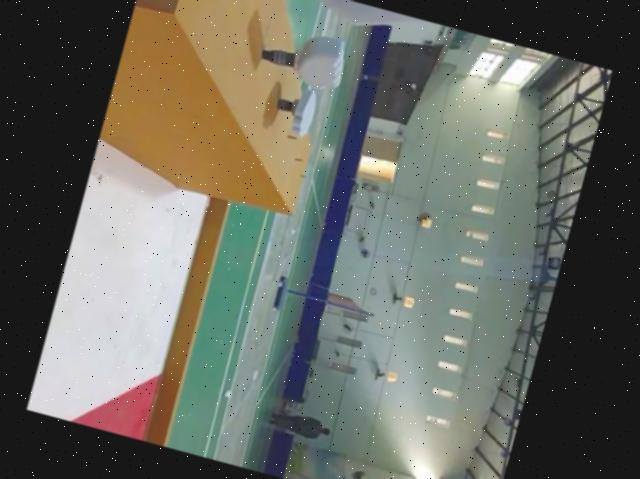Fist: (263, 17, 358, 97)
Hand: (265, 79, 326, 138)
Sph: (219, 0, 445, 45)
